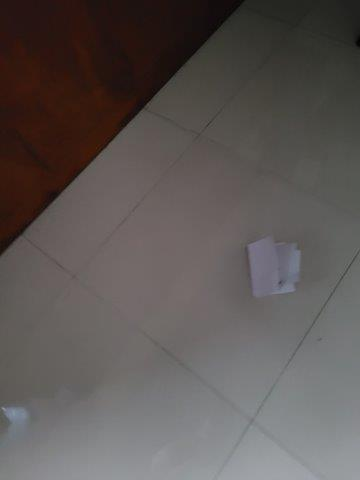kertas: (247, 239, 300, 297)
